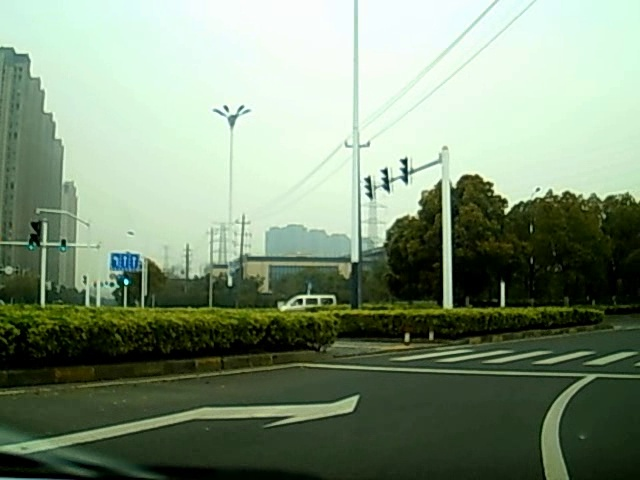Traffic_Light_go: (58, 239, 66, 253)
